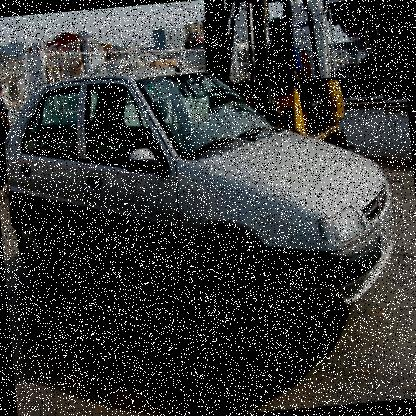Car: (0, 5, 407, 385), (0, 99, 97, 192)
